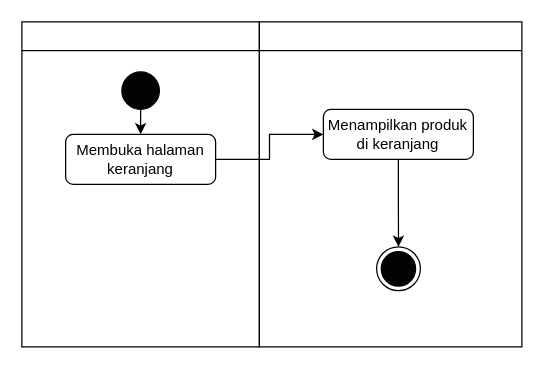
Image size: 544x369. Some labels were removed from this diagram. Each missing label, with the box of its shape:
Sistem: (258, 21, 522, 347)
User: (21, 21, 259, 347)
